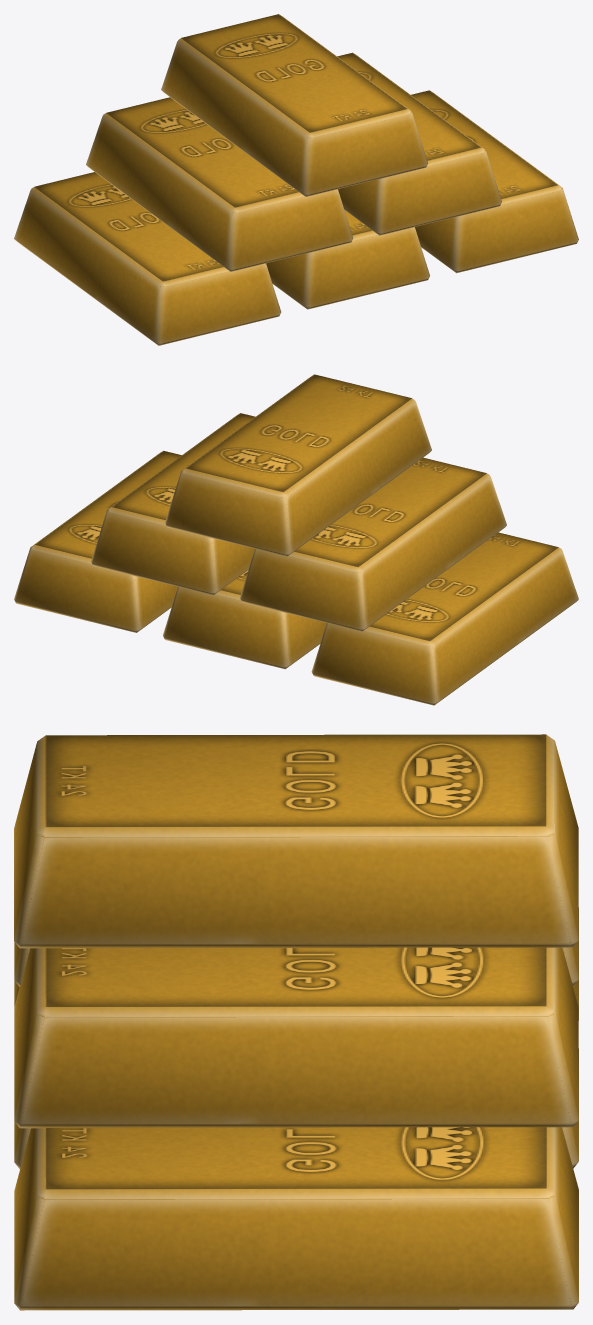
Rendered from gold bars.FBX.
The picture shows the model from 3 angles, top to bottom: view 1: azimuth 30°, elevation 25°; view 2: azimuth 150°, elevation 25°; view 3: azimuth 270°, elevation 25°; orthographic projection. The views are drawn at different scales.
Visible parts, largest first — view 1: gold 2; view 2: gold 2; view 3: gold 2.
Part boxes in pixels (x1=…): gold 2: x1=14, y1=14, x2=578, y2=345; gold 2: x1=14, y1=374, x2=578, y2=705; gold 2: x1=14, y1=734, x2=578, y2=1310.
Size of the model in its own units: 0.4535 by 0.2704 by 0.1743.
